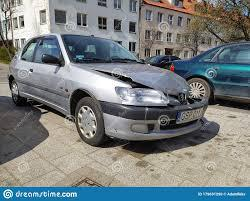bonnet-dent: (91, 66, 191, 101)
